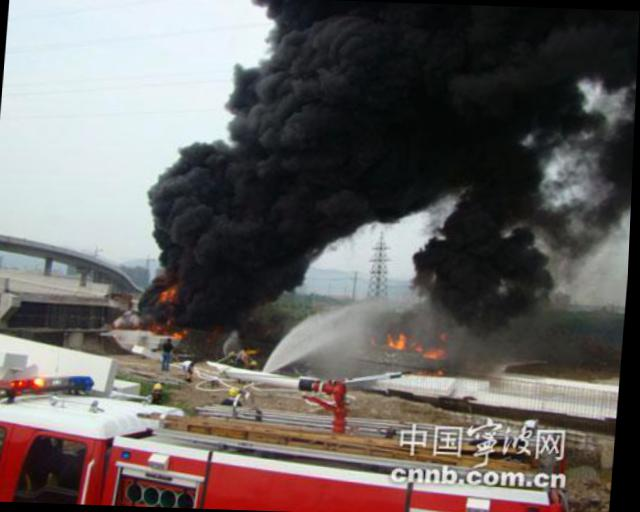fire: (390, 332, 408, 348), (160, 285, 178, 301), (425, 348, 445, 359)
